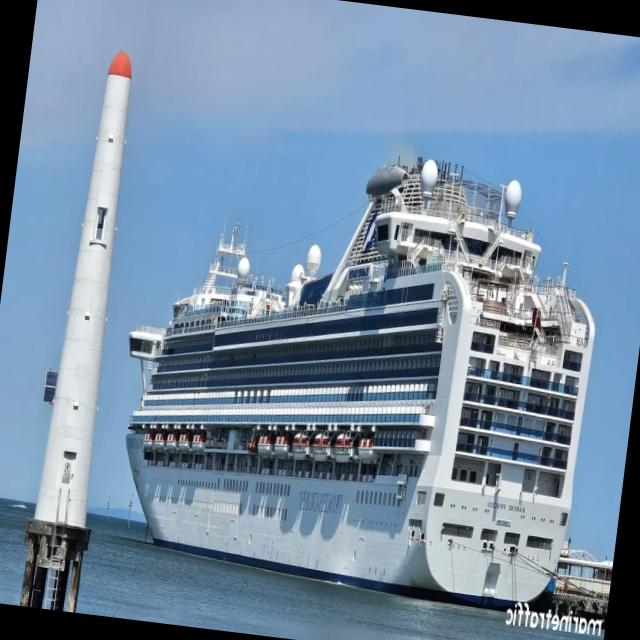Cruise: (126, 157, 594, 608)
